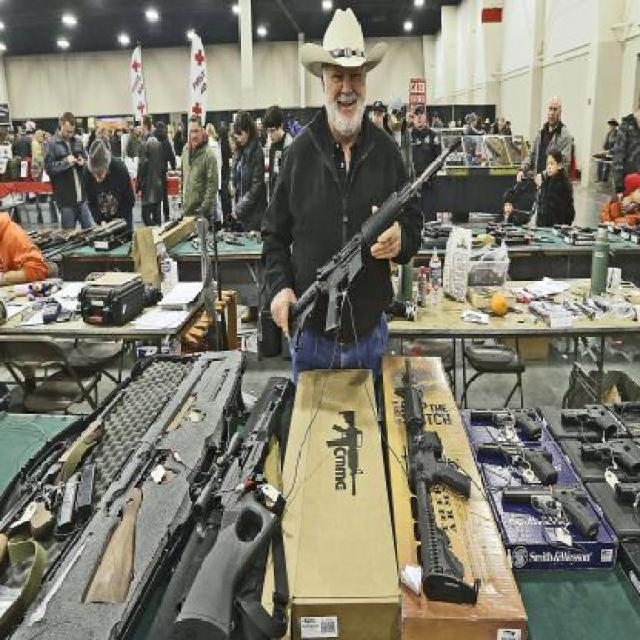weapon: (273, 133, 465, 364), (85, 357, 227, 611), (163, 381, 298, 632), (391, 353, 494, 604), (0, 386, 131, 576), (490, 481, 603, 552), (469, 442, 570, 481), (461, 403, 544, 439), (555, 401, 632, 439), (578, 442, 638, 477)
